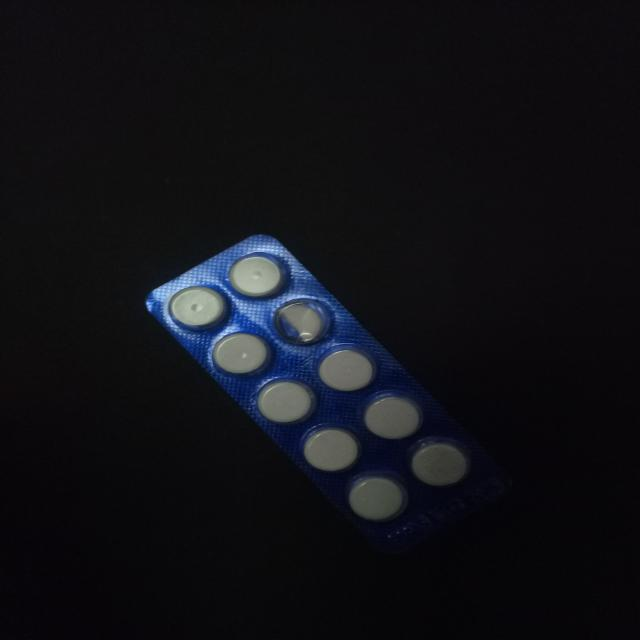defect: (272, 296, 339, 347)
